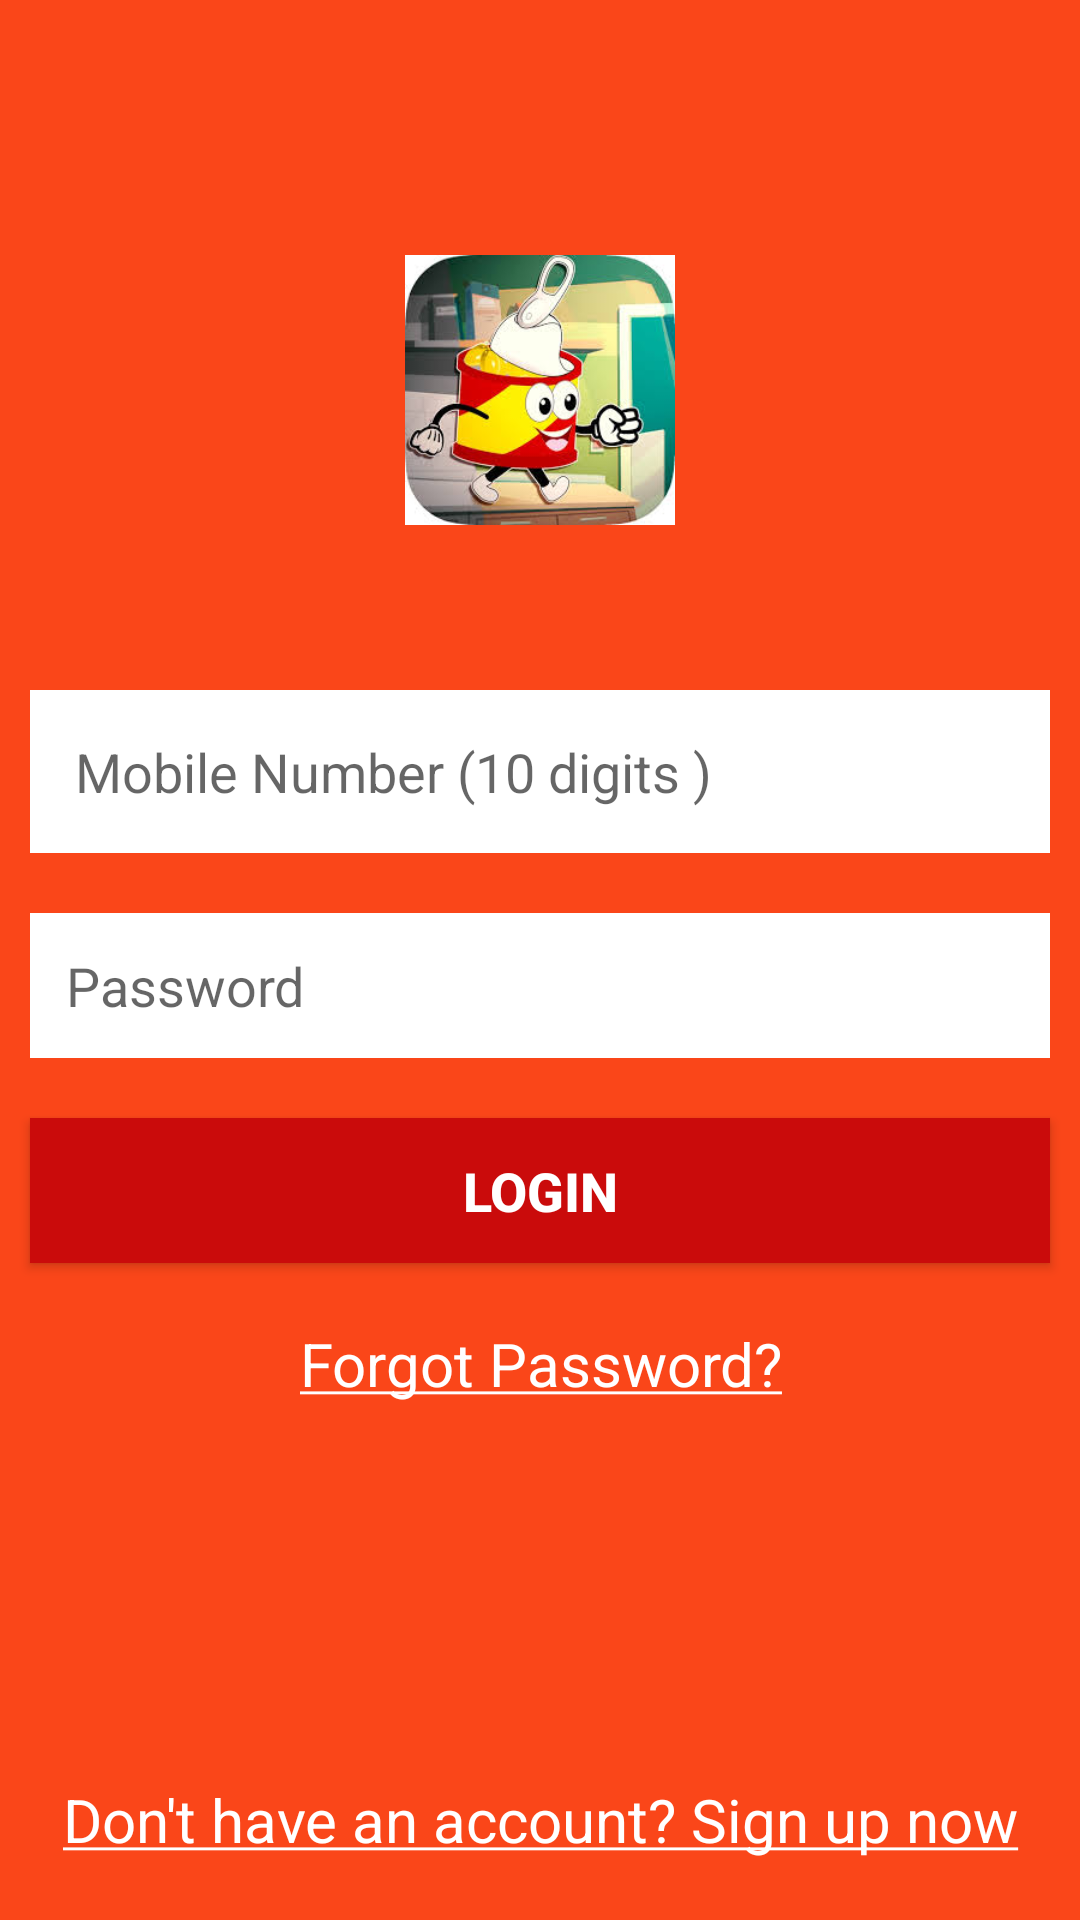

Screen size 1080w x 1920h. Icon name, then its center in pixels as point (x, y):
foodpic: point (540, 390)
